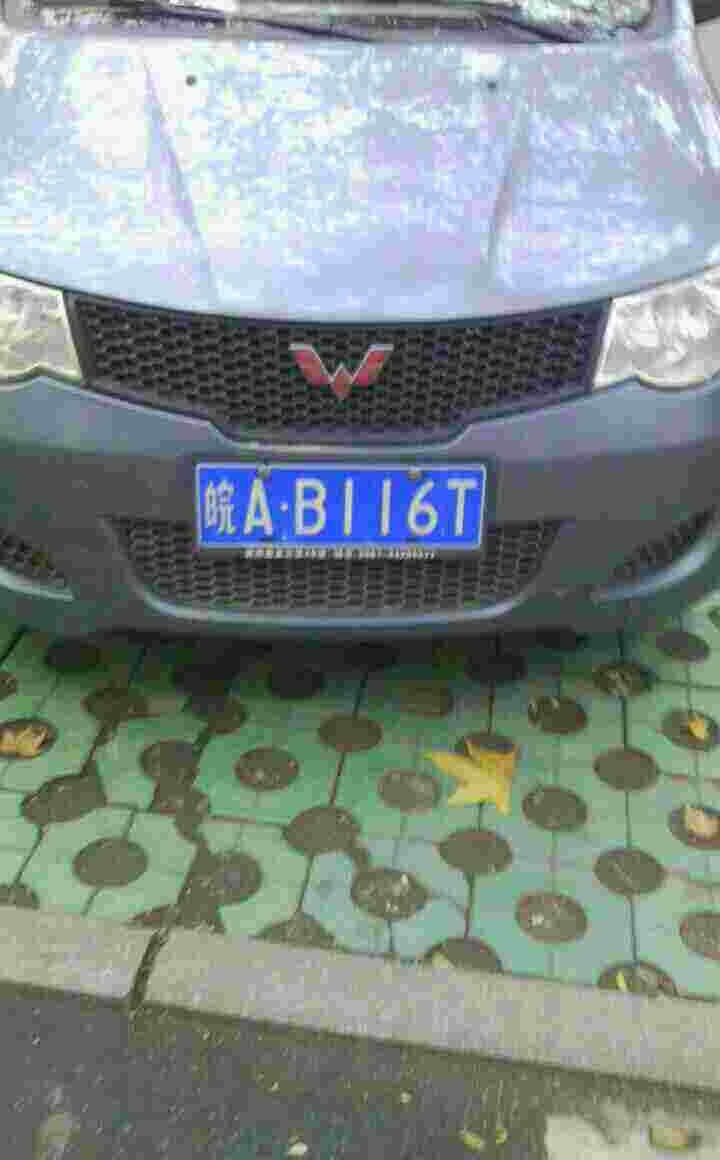license_plate: (205, 466, 477, 550)
